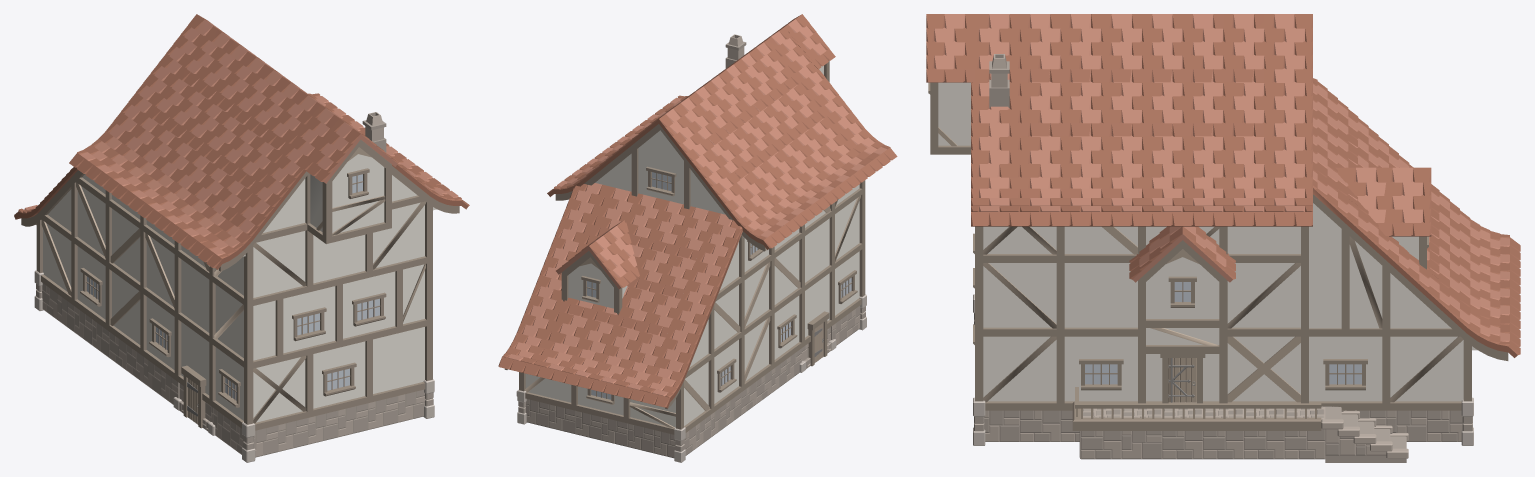
Rendered from house2.glb.
3 renders of one model, left to right at view 1: azimuth 30°, elevation 25°; view 2: azimuth 150°, elevation 25°; view 3: azimuth 270°, elevation 25°, orthographic. The views are drawn at different scales.
Parts seen in each view (by area): view 1: house2; view 2: house2; view 3: house2.
Boxes of the visible parts, x1,y1,x2,y2 form: house2: (14, 14, 469, 462); house2: (498, 14, 897, 462); house2: (926, 14, 1520, 462).
Bounding box in the file's own units: 8.61 × 10.3 × 14.6.
